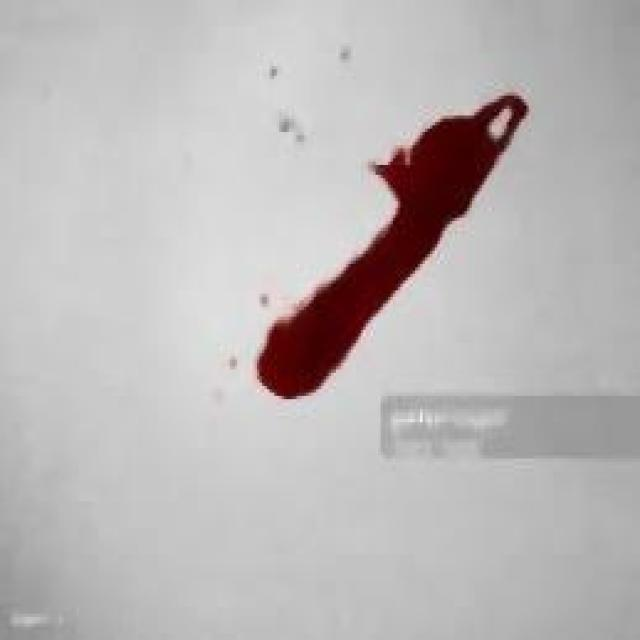Bloodstain-Detection: (254, 105, 526, 392)
